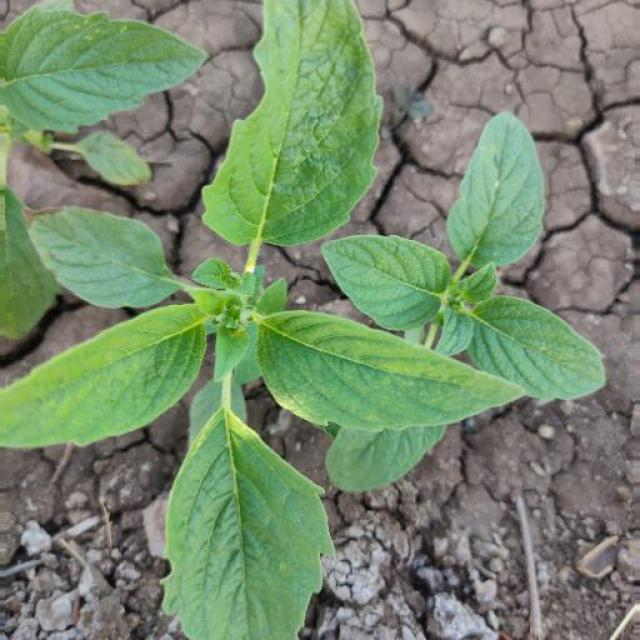crop: (2, 12, 530, 628), (302, 98, 612, 488)
